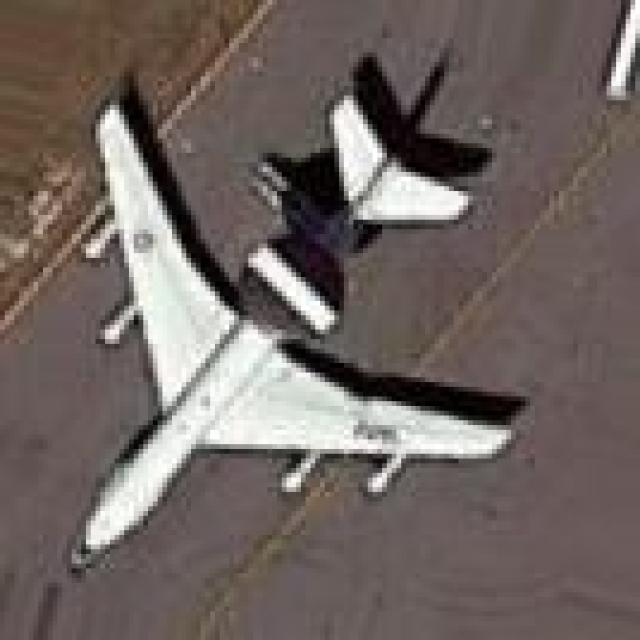E-3_TopDown: (62, 39, 530, 568)
